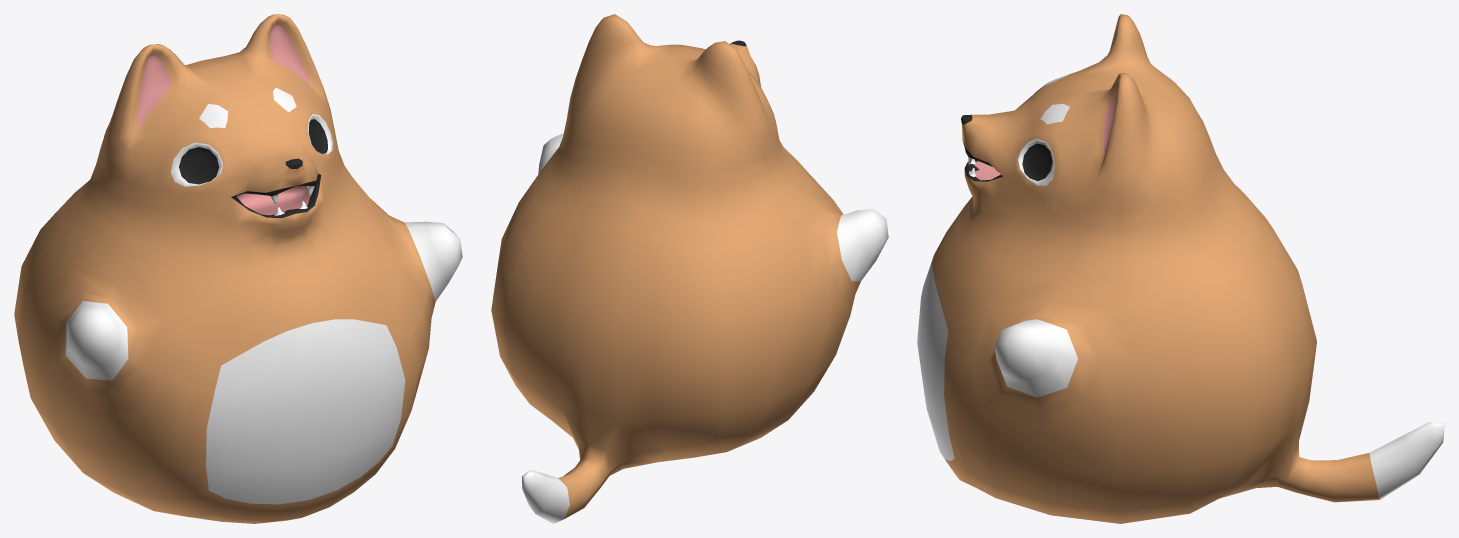
Rendered from dog-tVUhLGRU.glb.
The picture shows the model from 3 angles, left to right: view 1: azimuth 30°, elevation 25°; view 2: azimuth 150°, elevation 25°; view 3: azimuth 270°, elevation 25°; orthographic projection. The views are drawn at different scales.
Parts seen in each view (by area): view 1: Cube; view 2: Cube; view 3: Cube.
Part boxes in pixels (x1,y1,x2,y2): Cube: (14,14,462,523); Cube: (491,14,888,523); Cube: (917,14,1444,523).
Size of the model in its own units: 0.3227 by 0.3742 by 0.3888.
